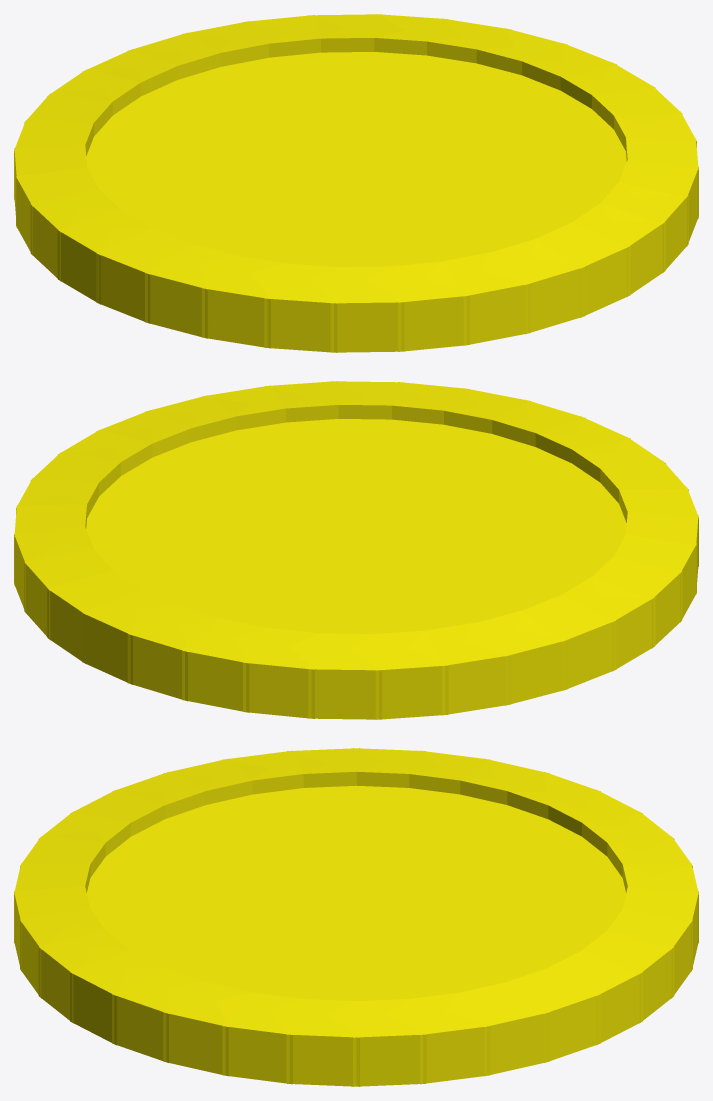
File: Coin.fbx
3 renders of one model, top to bottom at view 1: azimuth 30°, elevation 25°; view 2: azimuth 150°, elevation 25°; view 3: azimuth 270°, elevation 25°, orthographic.
Parts seen in each view (by area): view 1: Coin; view 2: Coin; view 3: Coin.
Boxes of the visible parts, x1,y1,x2,y2 form: Coin: (14,14,698,352); Coin: (14,381,698,719); Coin: (14,748,698,1086).
Size of the model in its own units: 2 by 0.2 by 2.
